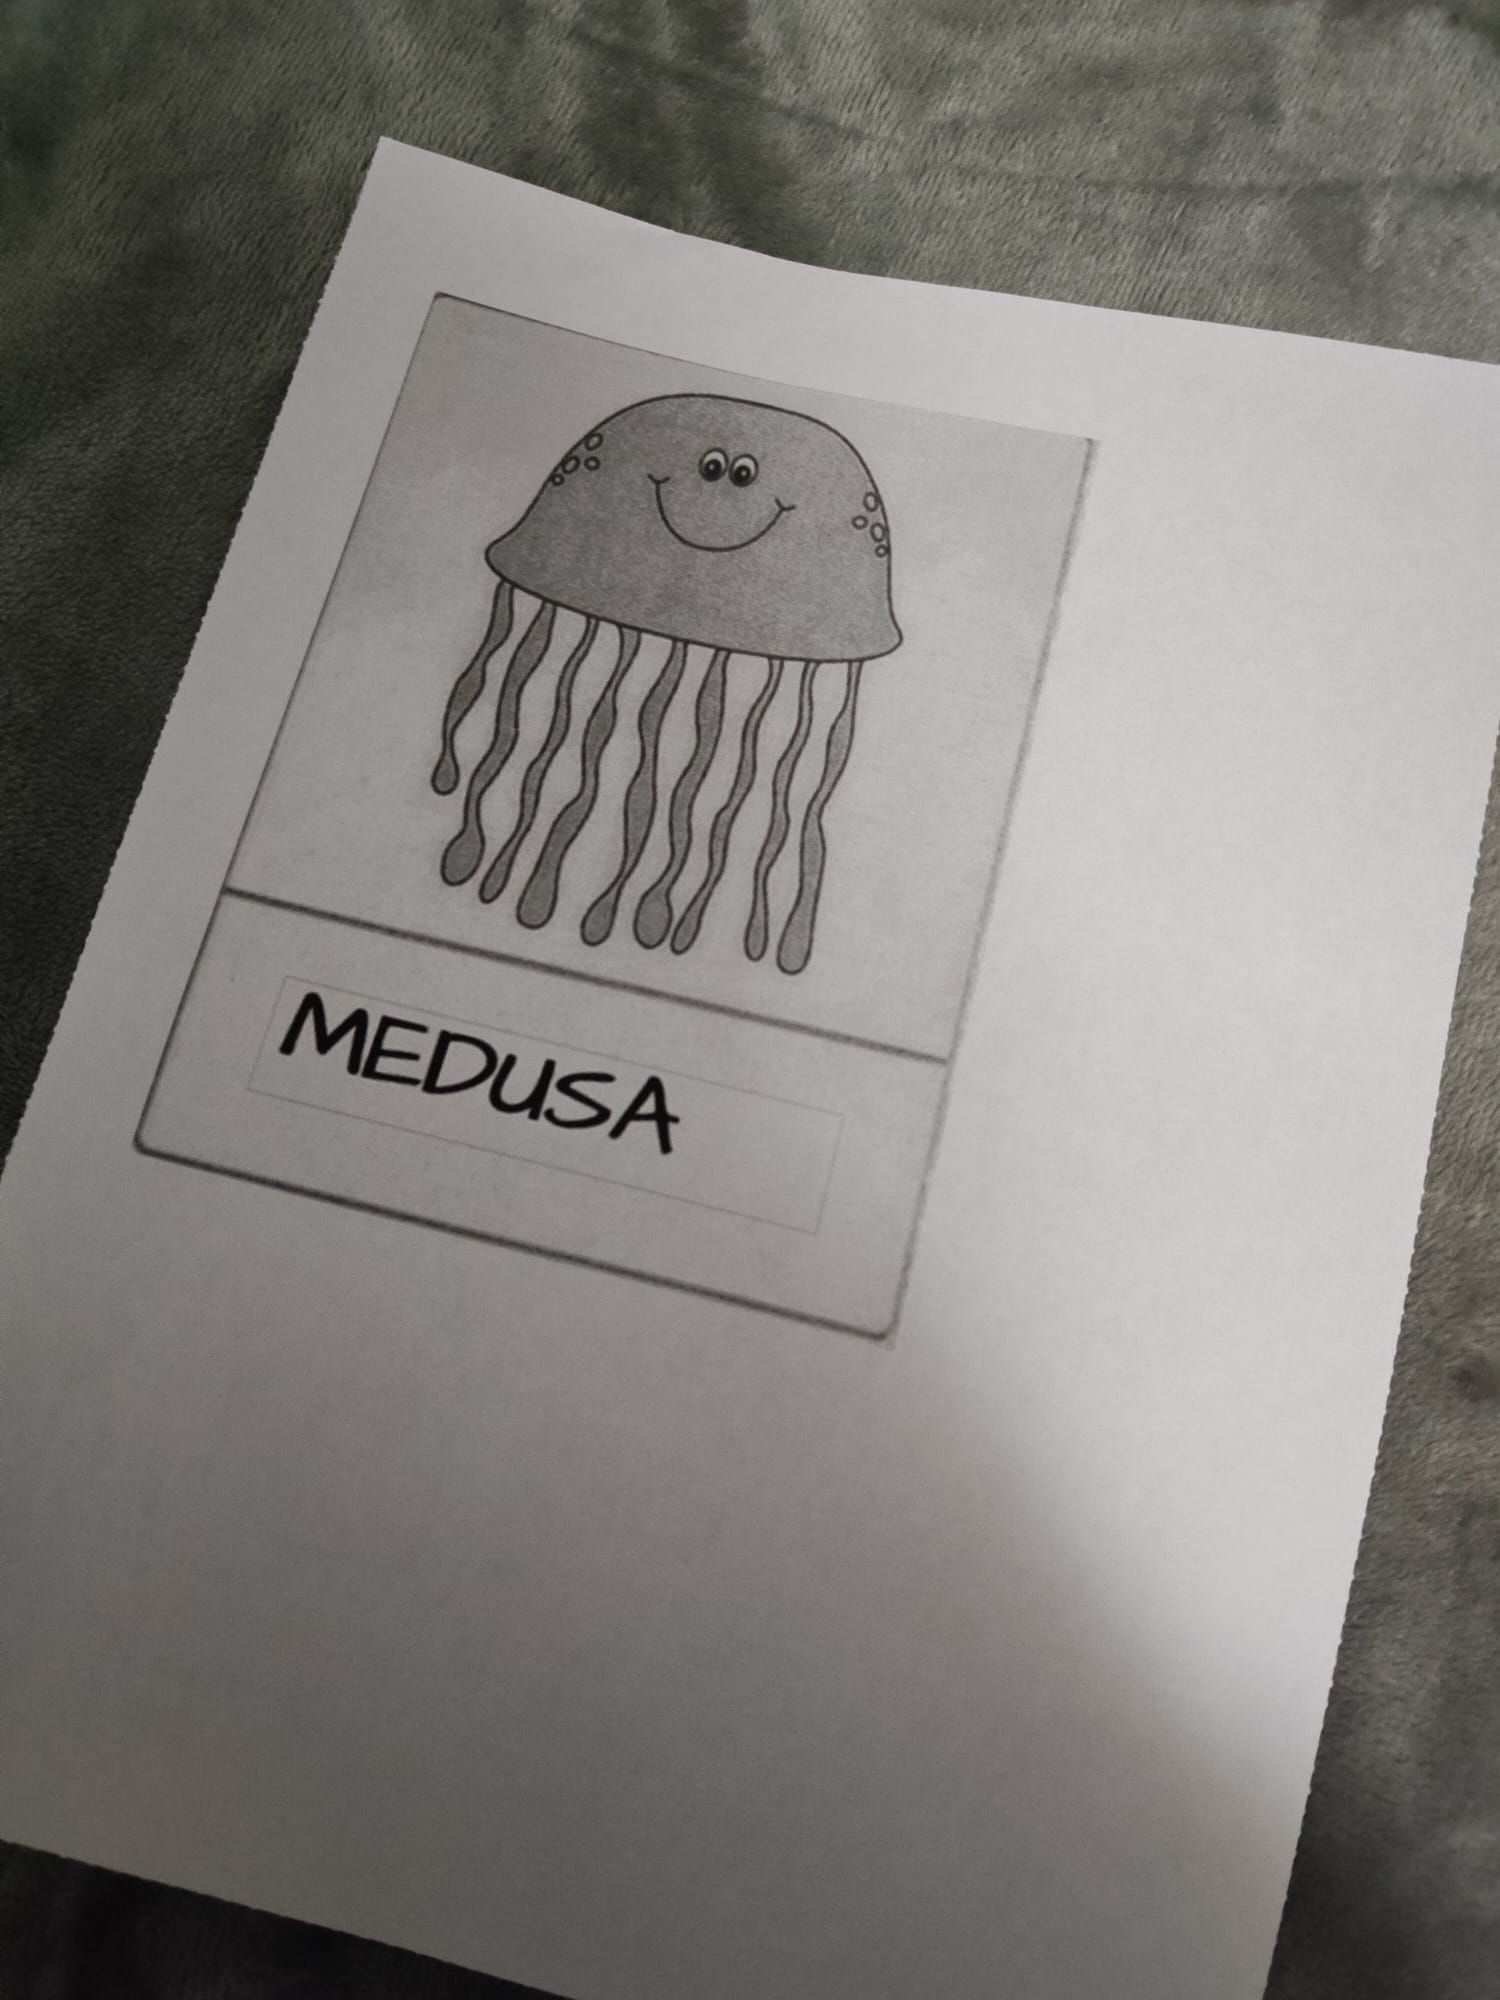medusa: (254, 301, 1014, 1303)
